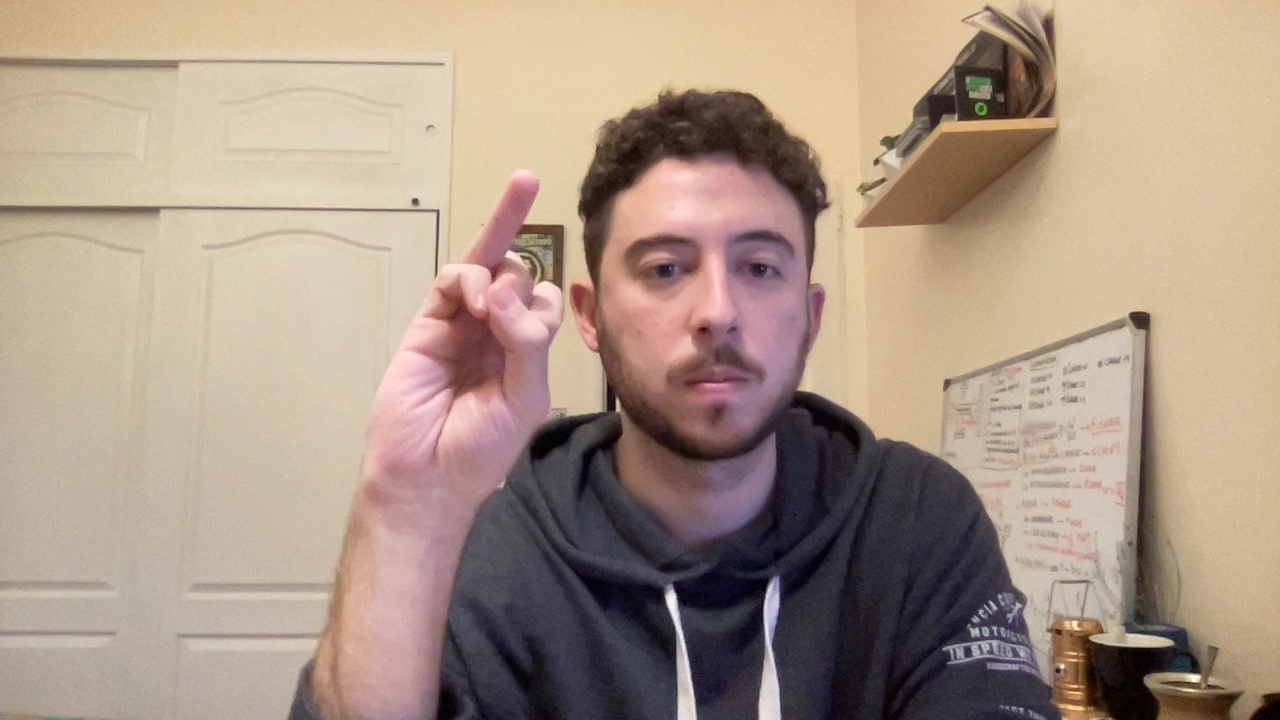anular: (343, 153, 601, 494)
